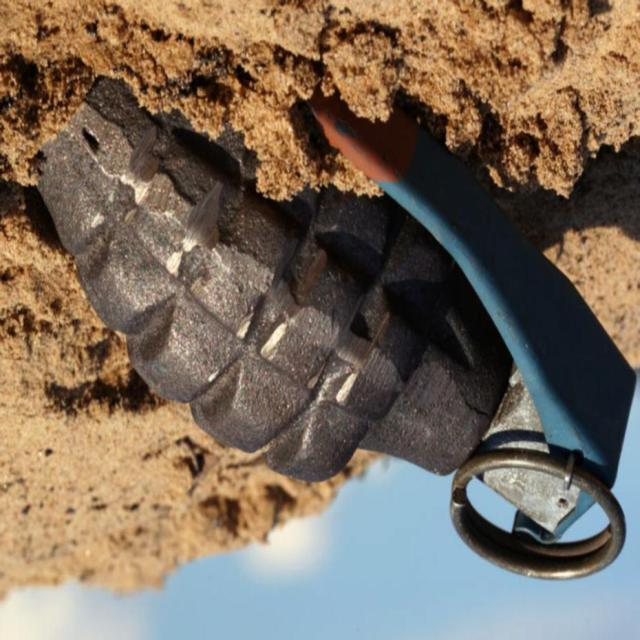grenade: (35, 77, 638, 583)
